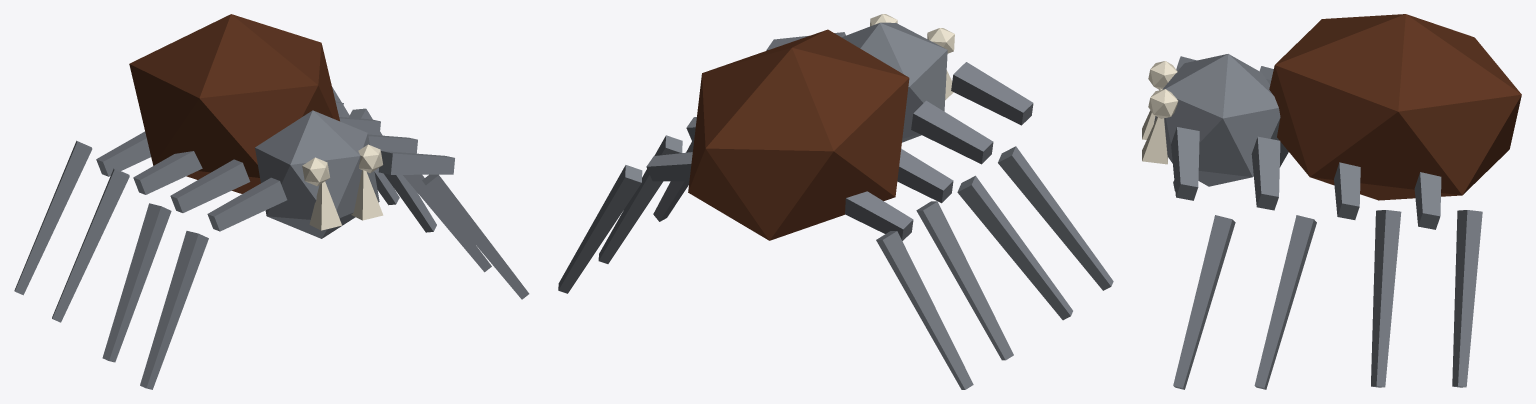
File: npcpose_spider_attack_03.glb
3 renders of one model, left to right at view 1: azimuth 30°, elevation 25°; view 2: azimuth 150°, elevation 25°; view 3: azimuth 270°, elevation 25°, orthographic. The views are drawn at different scales.
Parts seen in each view (by area): view 1: npcpose; view 2: npcpose; view 3: npcpose.
Boxes of the visible parts, x1,y1,x2,y2 form: npcpose: (14, 14, 529, 389); npcpose: (558, 14, 1113, 389); npcpose: (1142, 14, 1521, 389).
Bounding box in the file's own units: 1.32 × 0.8249 × 1.03.
